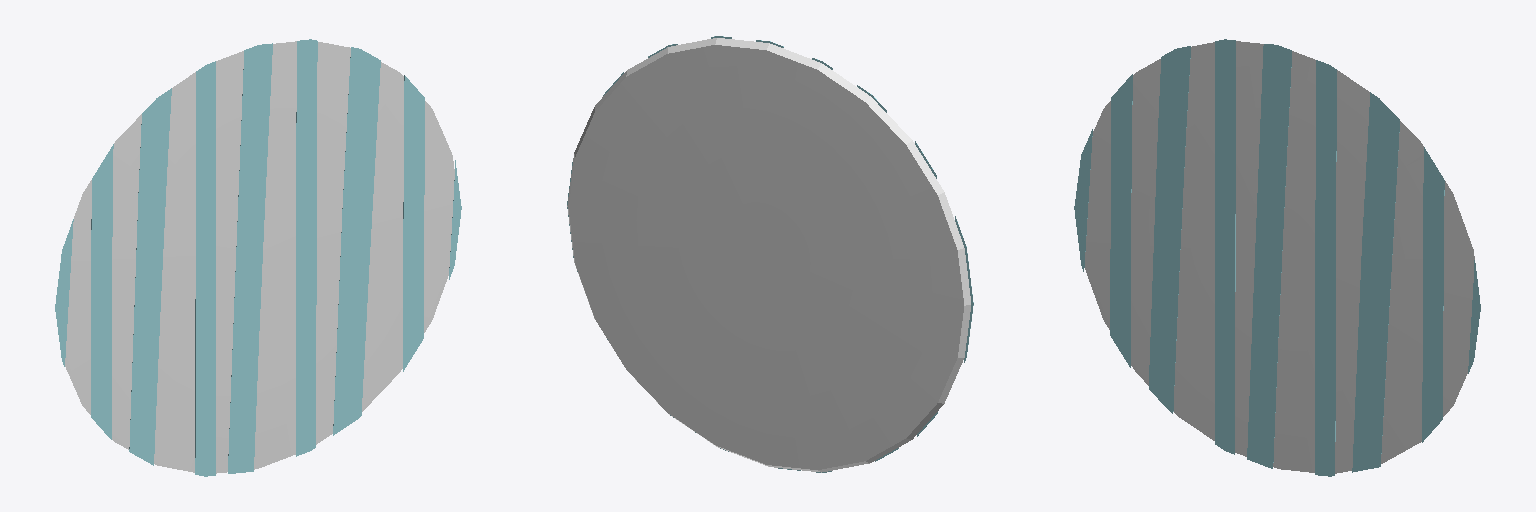
Rendered from tinker.obj.
3 views of the same model, side by side, from view 1: azimuth 30°, elevation 25°; view 2: azimuth 150°, elevation 25°; view 3: azimuth 330°, elevation 25° (orthographic).
Parts seen in each view (by area): view 1: obj_0; view 2: obj_0; view 3: obj_0.
Part boxes in pixels (left/top/right/bottom): obj_0: left=55, top=39, right=461, bottom=476; obj_0: left=567, top=36, right=973, bottom=472; obj_0: left=1074, top=39, right=1480, bottom=476.
Size of the model in its own units: 50 by 50 by 1.01.